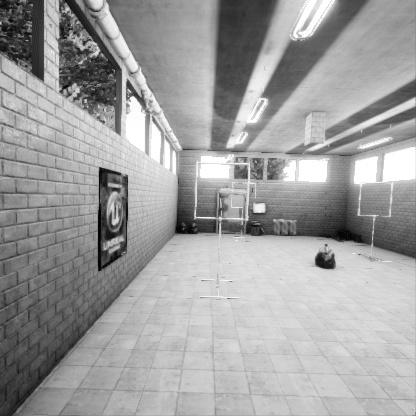gate: (195, 198, 253, 256), (361, 200, 398, 235), (231, 208, 257, 234)
